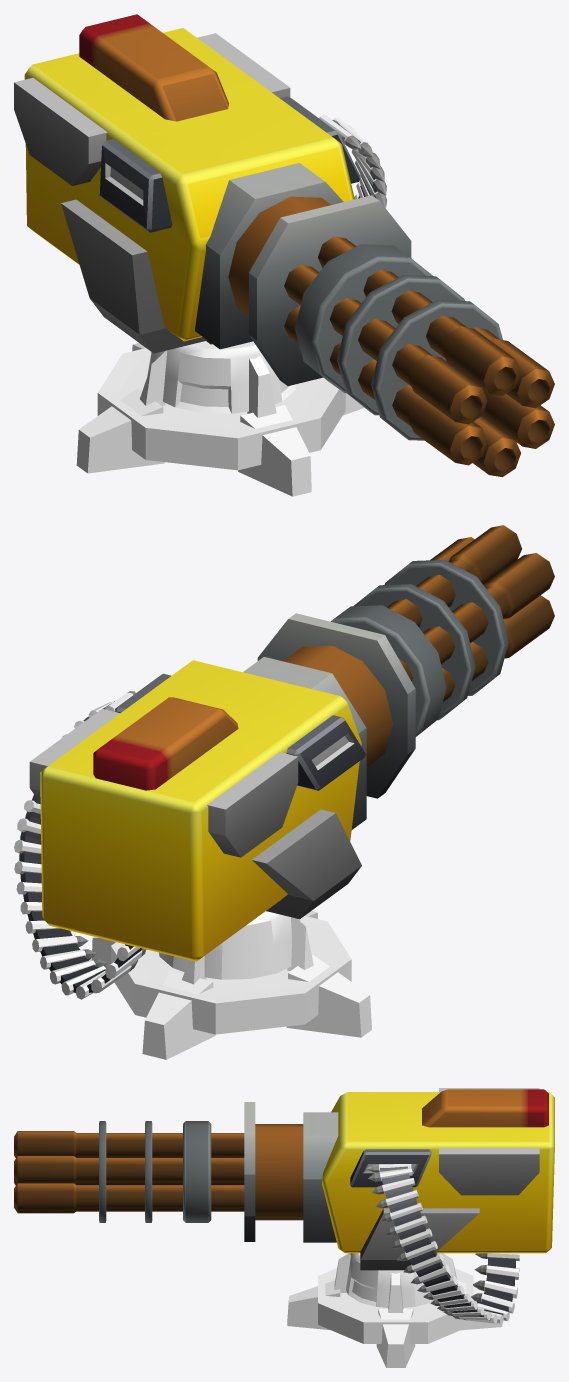
File: Wep_Gatling_Gun.fbx
3 views of the same model, one above another, from view 1: azimuth 30°, elevation 25°; view 2: azimuth 150°, elevation 25°; view 3: azimuth 270°, elevation 25° (orthographic). The views are drawn at different scales.
Visible parts, largest first — view 1: BaseU, barrel, Base, Magazine; view 2: BaseU, Base, barrel, Magazine; view 3: BaseU, barrel, Base, Magazine.
Boxes of the visible parts, box(x1,y1,x2,y2) form: BaseU: box(14, 14, 411, 385); barrel: box(284, 236, 554, 477); Base: box(76, 341, 364, 496); Magazine: box(319, 114, 386, 208); BaseU: box(29, 613, 415, 961); Base: box(91, 911, 371, 1059); barrel: box(331, 525, 554, 736); Magazine: box(14, 691, 146, 999); BaseU: box(244, 1088, 554, 1270); barrel: box(14, 1121, 244, 1222); Base: box(287, 1253, 502, 1367); Magazine: box(367, 1164, 519, 1324).
Bounding box in the file's own units: 31.83 × 31.6 × 68.8.
